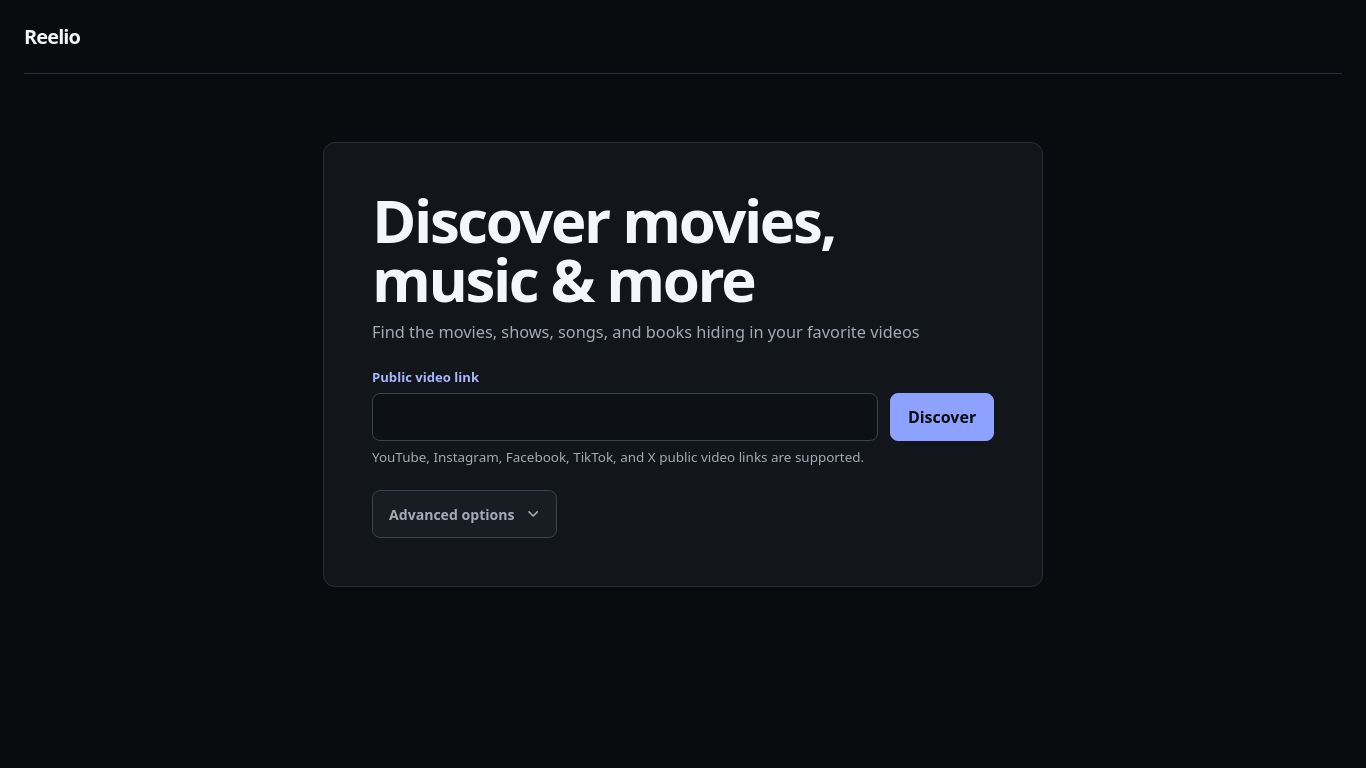
Test: video discovery application › should show canonical video context without statistics when results are empty
Type "https://www.tiktok.com/@alias/video/1234567890123456789" into the field labelled "Public video link".
click(625, 417); type("https://www.tiktok.com/@alias/video/1234567890123456789")  # box x1=372 y1=393 x2=878 y2=441
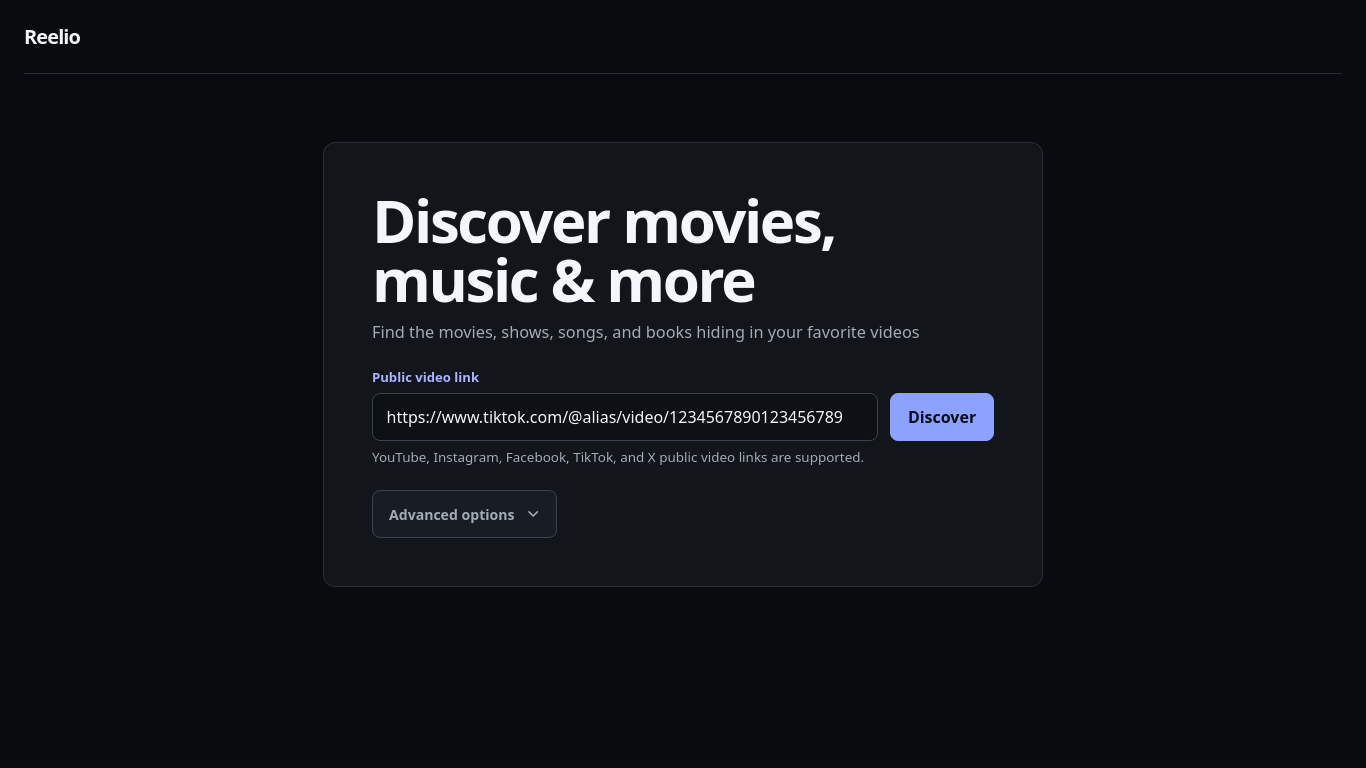
Click the button "Discover".
click(942, 417)  # box x1=890 y1=393 x2=994 y2=441
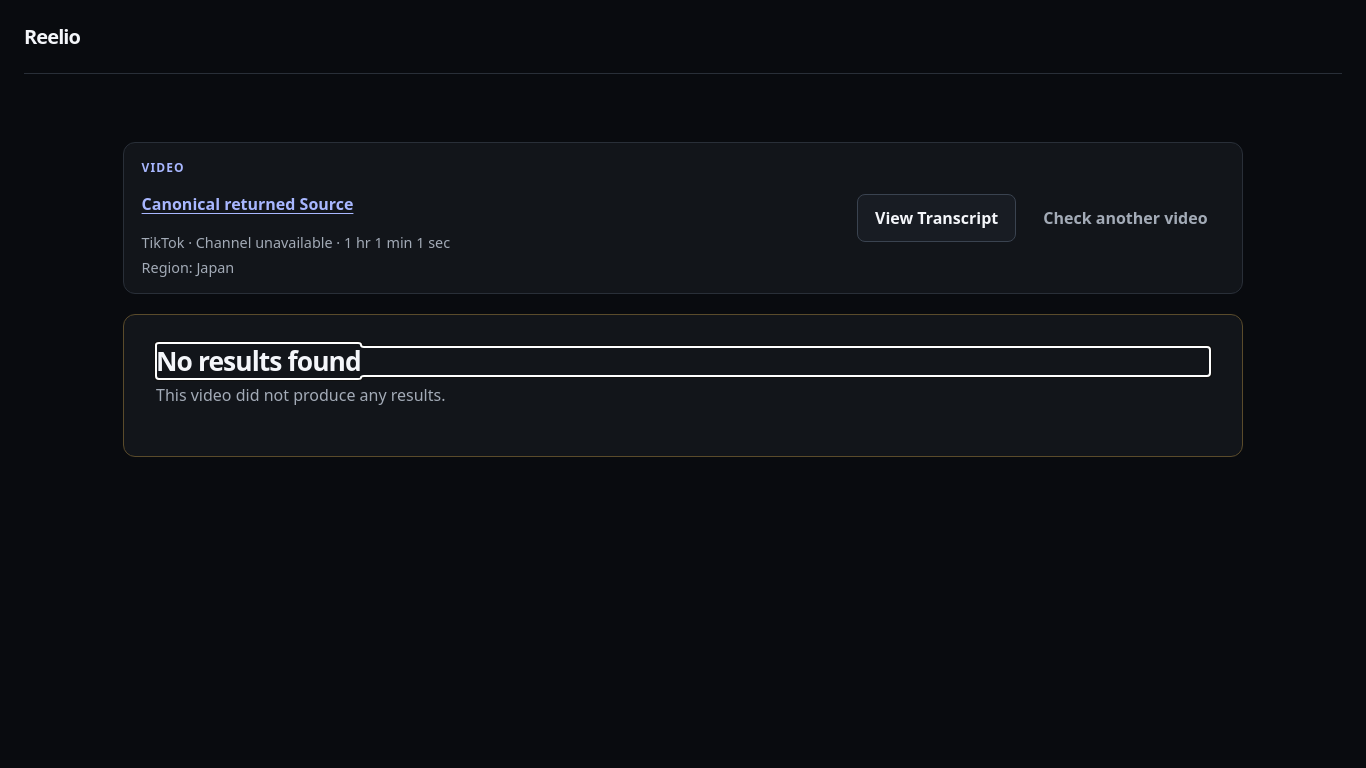
Now the text "TikTok · Channel unavailable · 1 hr 1 min 1 sec" is shown, box x1=142 y1=234 x2=450 y2=252
Now the text "Region: Japan" is shown, box x1=142 y1=258 x2=234 y2=277
Now the button "View Transcript" is shown, box x1=857 y1=194 x2=1016 y2=242
